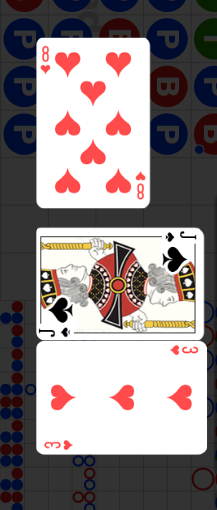3H: (44, 438, 75, 451)
8H: (40, 45, 53, 76), (134, 169, 147, 200)
JS: (38, 295, 85, 339), (159, 228, 205, 272)
